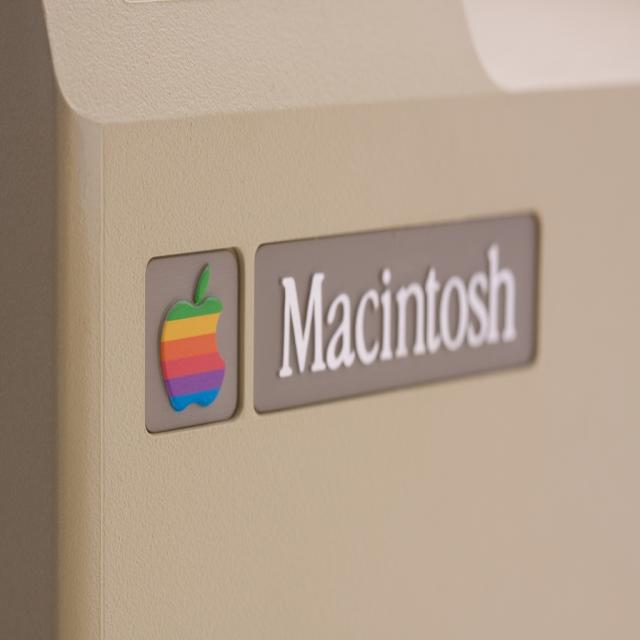Healty Apple: (158, 264, 226, 412)
